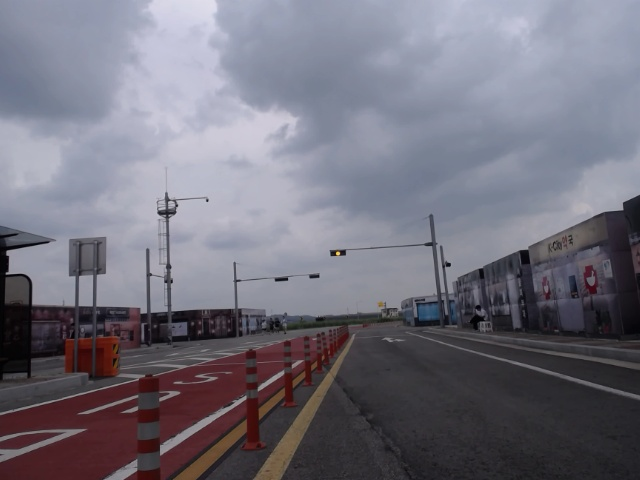orange_3: (330, 249, 346, 257)
